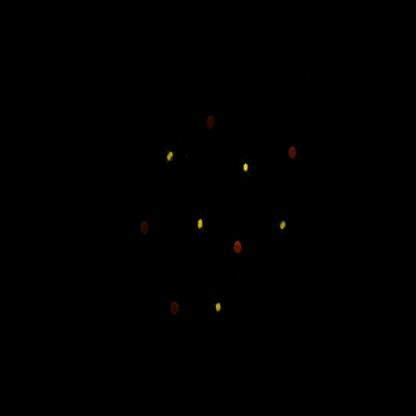PE: (162, 146, 182, 177), (192, 209, 209, 242), (212, 293, 228, 325), (237, 155, 254, 184), (275, 211, 292, 240)
PS: (137, 212, 156, 245), (230, 232, 249, 264), (167, 293, 183, 324), (286, 140, 300, 169), (204, 108, 219, 135)
